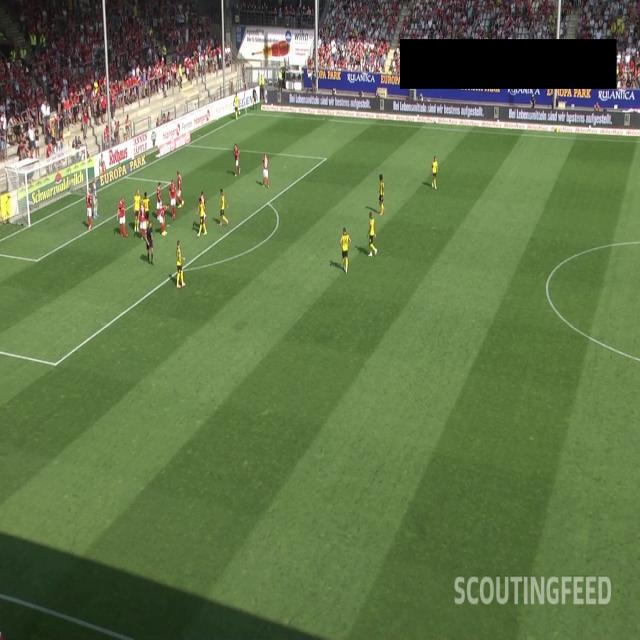ball: (238, 105, 243, 118)
player: (174, 235, 184, 293), (341, 224, 351, 277), (158, 201, 171, 238), (366, 209, 375, 260), (261, 151, 270, 195), (118, 194, 127, 237), (377, 175, 387, 212), (431, 157, 441, 193), (155, 180, 165, 215), (232, 143, 241, 178), (143, 190, 152, 225), (134, 189, 142, 228), (92, 178, 99, 218), (199, 188, 206, 224), (233, 92, 241, 123), (170, 178, 176, 218), (86, 189, 92, 228), (198, 198, 204, 233), (140, 204, 146, 238), (178, 170, 183, 209), (220, 187, 224, 228)
